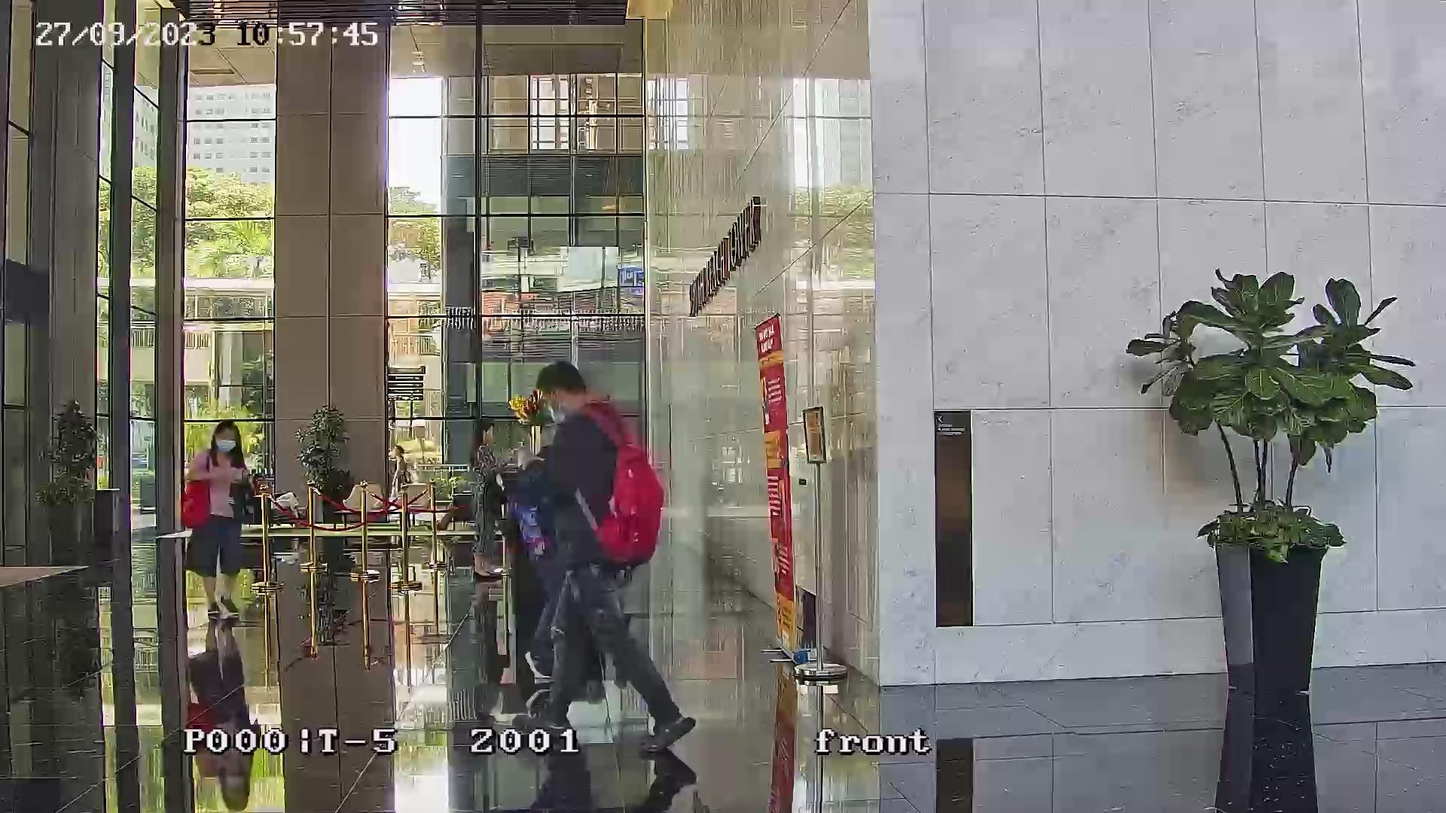person: (487, 359, 697, 756), (181, 421, 272, 620)
